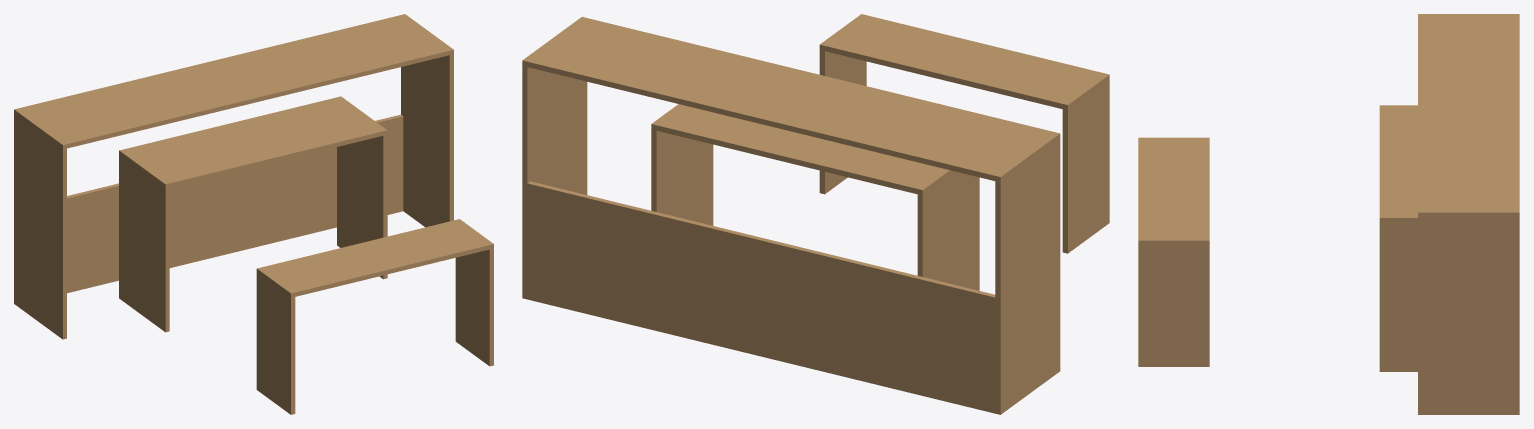
Rendered from Mesa_tres_cuerpos.dae.
3 renders of one model, left to right at view 1: azimuth 30°, elevation 25°; view 2: azimuth 150°, elevation 25°; view 3: azimuth 270°, elevation 25°, orthographic. The views are drawn at different scales.
Parts seen in each view (by area): view 1: Alto - tablero de los KH, Alto - trasera baja, Medio - tablero, Alto - lateral izquierdo, Alto - lateral derecho, Bajo - tablero, Medio - lateral izquierdo, Medio - lateral derecho, Bajo - lateral izquierdo, Bajo - lateral derecho; view 2: Alto - trasera baja, Alto - tablero de los KH, Alto - lateral izquierdo, Bajo - tablero, Medio - tablero, Alto - lateral derecho, Bajo - lateral izquierdo, Medio - lateral izquierdo, Medio - lateral derecho, Bajo - lateral derecho; view 3: Alto - tablero de los KH, Alto - lateral derecho, Bajo - lateral derecho, Bajo - tablero, Medio - lateral derecho, Medio - tablero.
Part boxes in pixels (x1,y1,x2,y2): Alto - tablero de los KH: (14,14,453,149); Alto - trasera baja: (67,114,403,293); Medio - tablero: (119,96,387,188); Alto - lateral izquierdo: (14,114,66,339); Alto - lateral derecho: (401,54,453,227); Bajo - tablero: (256,219,493,297); Medio - lateral izquierdo: (119,155,169,332); Medio - lateral derecho: (337,134,387,279); Bajo - lateral izquierdo: (256,273,295,414); Bajo - lateral derecho: (455,248,493,366); Alto - trasera baja: (527,181,995,413); Alto - tablero de los KH: (522,17,1060,182); Alto - lateral izquierdo: (995,139,1060,414); Bajo - tablero: (819,14,1109,110); Medio - tablero: (651,104,954,195); Alto - lateral derecho: (522,66,587,299); Bajo - lateral izquierdo: (1062,80,1109,253); Medio - lateral izquierdo: (917,171,979,290); Medio - lateral derecho: (651,129,713,225); Bajo - lateral derecho: (819,50,866,194); Alto - tablero de los KH: (1418,14,1519,217); Alto - lateral derecho: (1418,217,1519,414); Bajo - lateral derecho: (1138,245,1209,366); Bajo - tablero: (1138,137,1209,245); Medio - lateral derecho: (1379,222,1417,371); Medio - tablero: (1379,105,1417,222).
Size of the model in its own units: 72.83 by 59.06 by 34.61.
